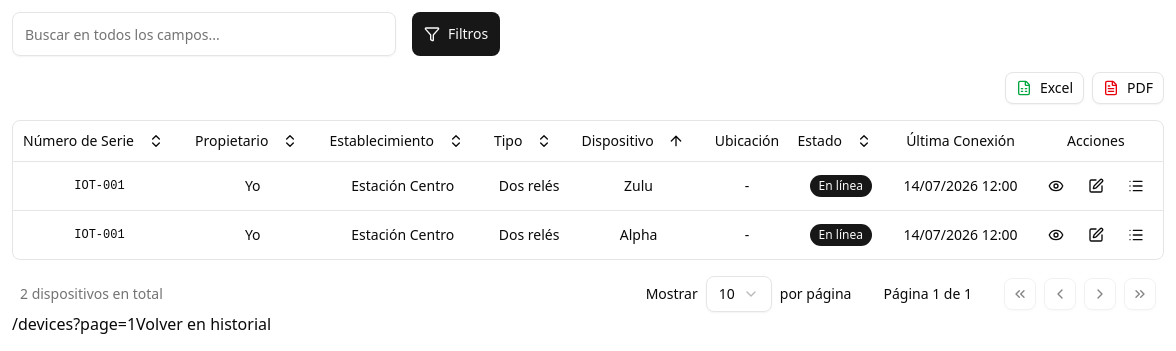
it: DevicesTable responsive contract › wires sortable headers to the URL-backed server sort
This screenshot has width=1176, height=351.
Click the button "Dispositivo" at (633, 141), box [572,125,694,157]
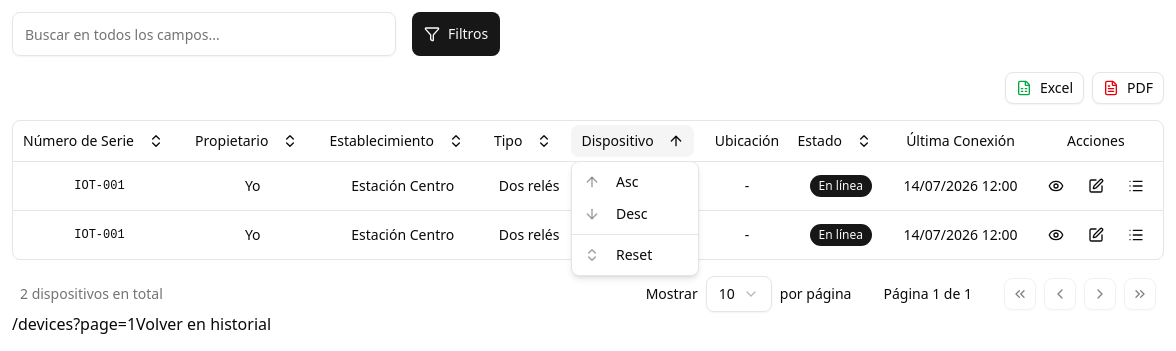
Click the menu item "Desc" at (616, 214), box [584,204,648,223]
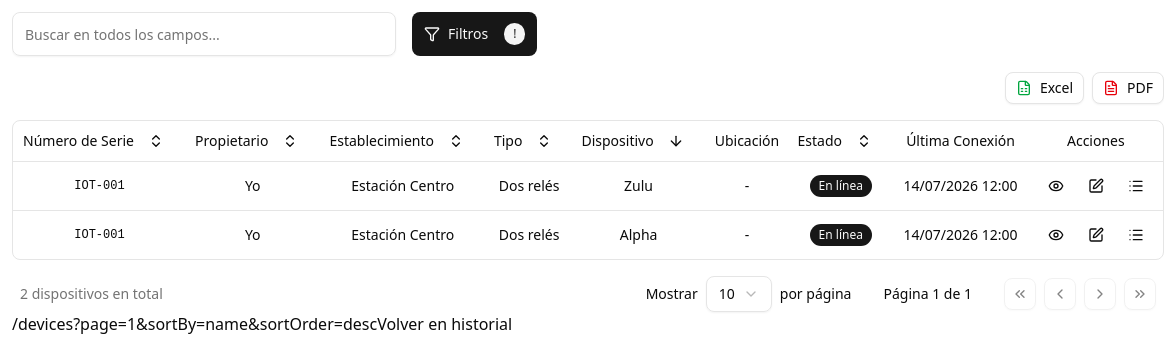
Expected: the text with test id "location" shows "page=1", [73,312,377,334]
Now the text with test id "location" shows "sortBy=name", box [73,312,377,334]
Now the text with test id "location" shows "sortOrder=desc", box [73,312,377,334]
